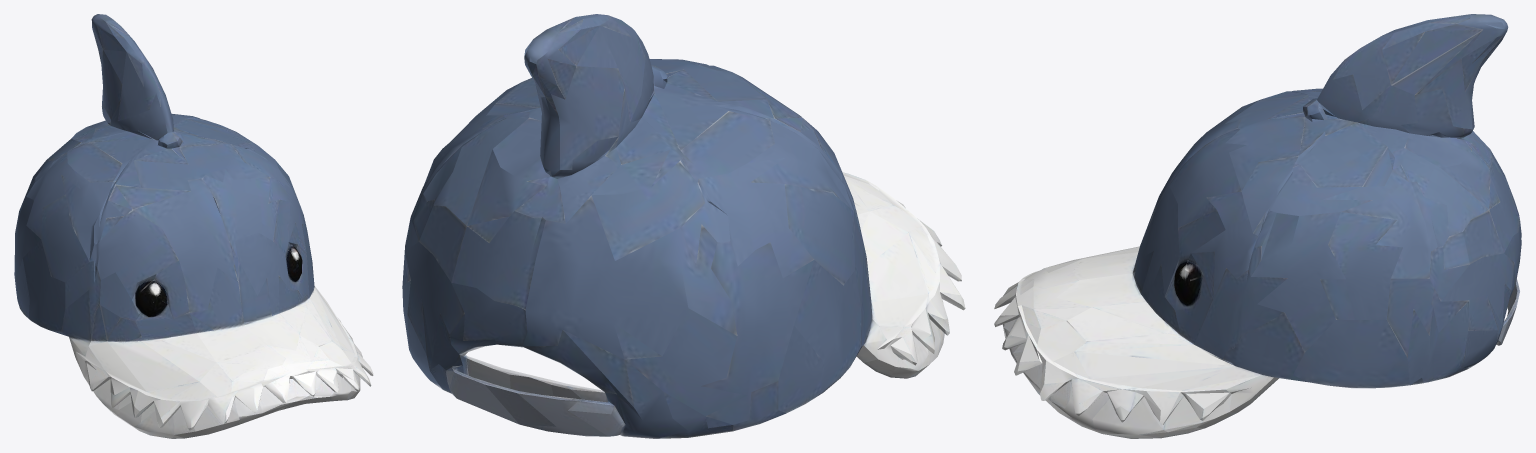
Rendered from shark-cap.glb.
The picture shows the model from 3 angles, left to right: view 1: azimuth 30°, elevation 25°; view 2: azimuth 150°, elevation 25°; view 3: azimuth 270°, elevation 25°; orthographic projection. The views are drawn at different scales.
Bounding box in the file's own units: 1.32 × 1.42 × 1.9.
Materials: 1 (1 with a texture image).
